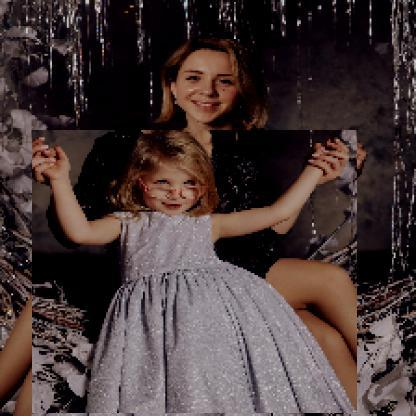child: (33, 131, 360, 415)
